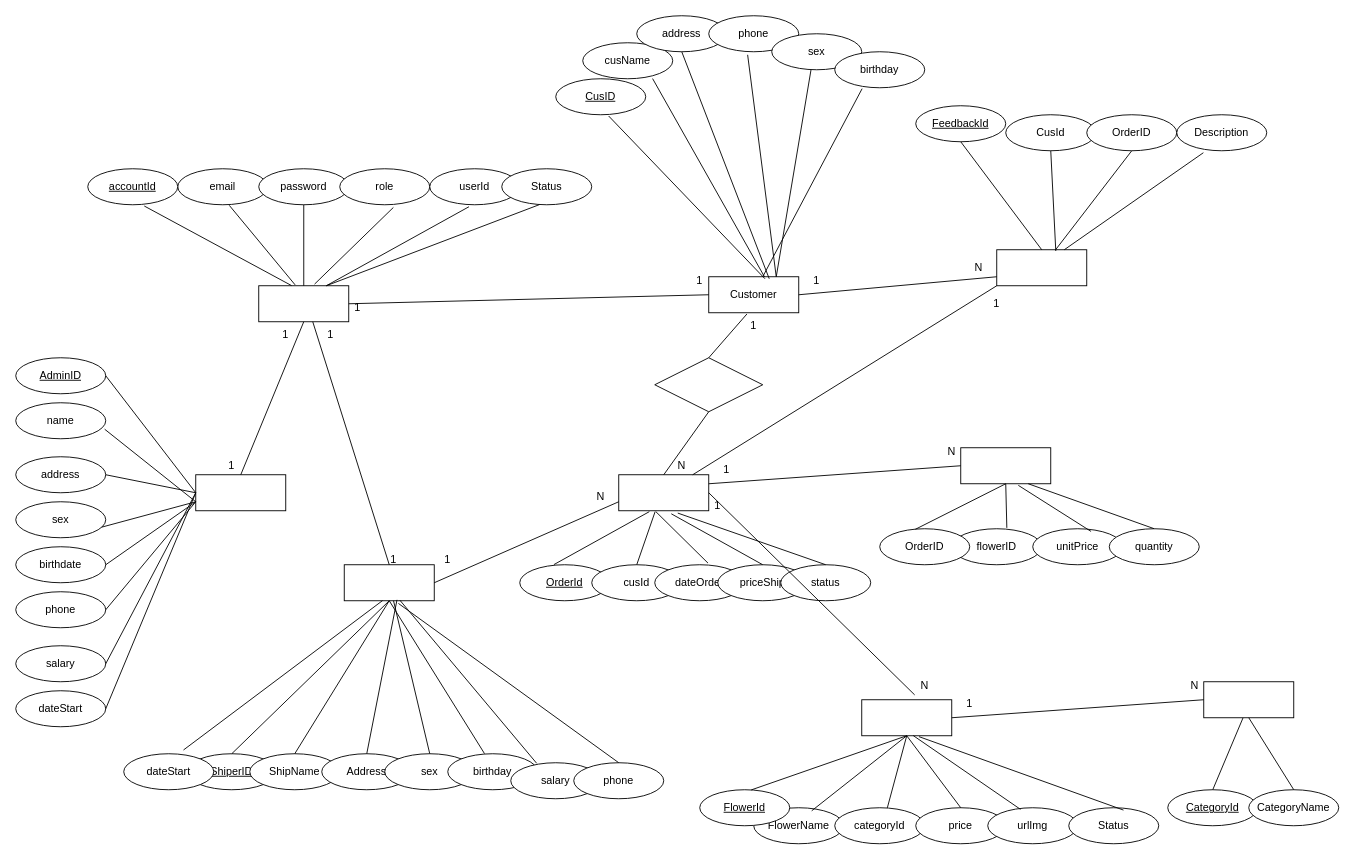
Some shapes in this 1355 by 860 pixel diagram are drawn without their labels. Here are the shapes that lost their labels. From the top down, the centre of each, then its label:
[1041,267]: Feedback
[303,303]: Account
[708,384]: has
[1005,465]: OrderDetail
[240,492]: Admin
[663,492]: Order
[388,582]: Shipper
[906,717]: Flower
[1248,699]: Category
